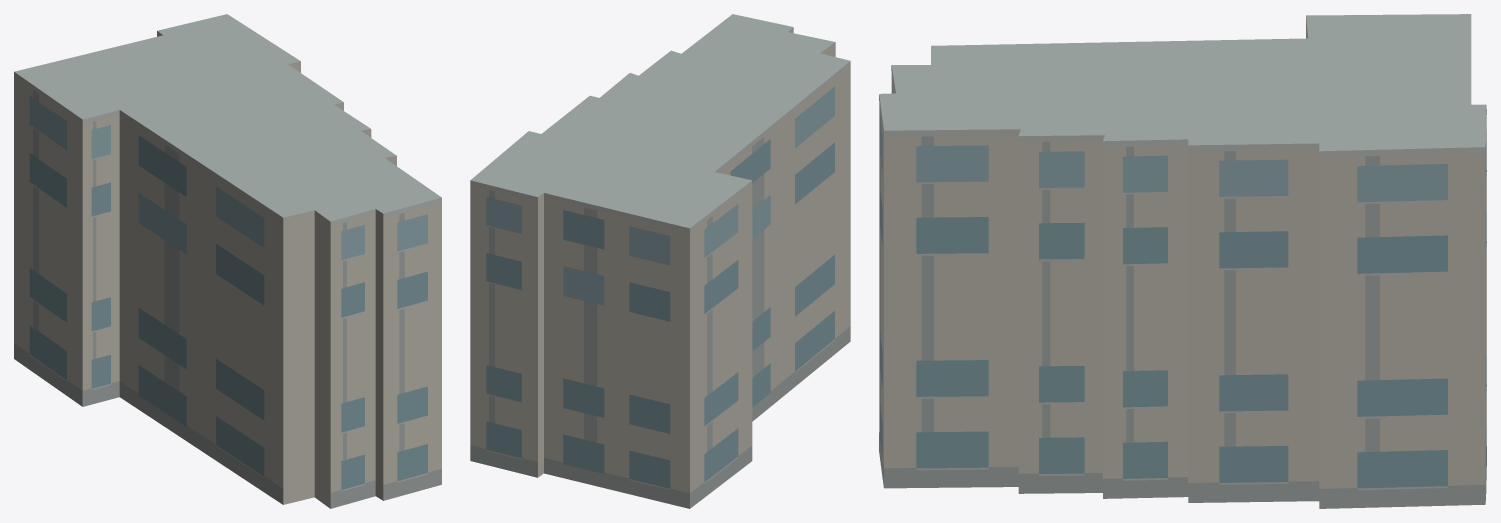
The model's file is survey-upis-32814914.glb.
The picture shows the model from 3 angles, left to right: view 1: azimuth 30°, elevation 25°; view 2: azimuth 150°, elevation 25°; view 3: azimuth 270°, elevation 25°; orthographic projection. The views are drawn at different scales.
Visible parts, largest first — view 1: survey-upis-32814914.tmp; view 2: survey-upis-32814914.tmp; view 3: survey-upis-32814914.tmp.
Part boxes in pixels (x1=…): survey-upis-32814914.tmp: x1=14, y1=14, x2=441, y2=508; survey-upis-32814914.tmp: x1=470, y1=14, x2=850, y2=508; survey-upis-32814914.tmp: x1=879, y1=14, x2=1486, y2=508.
Bounding box in the file's own units: 11.45 × 13.9 × 21.41.
